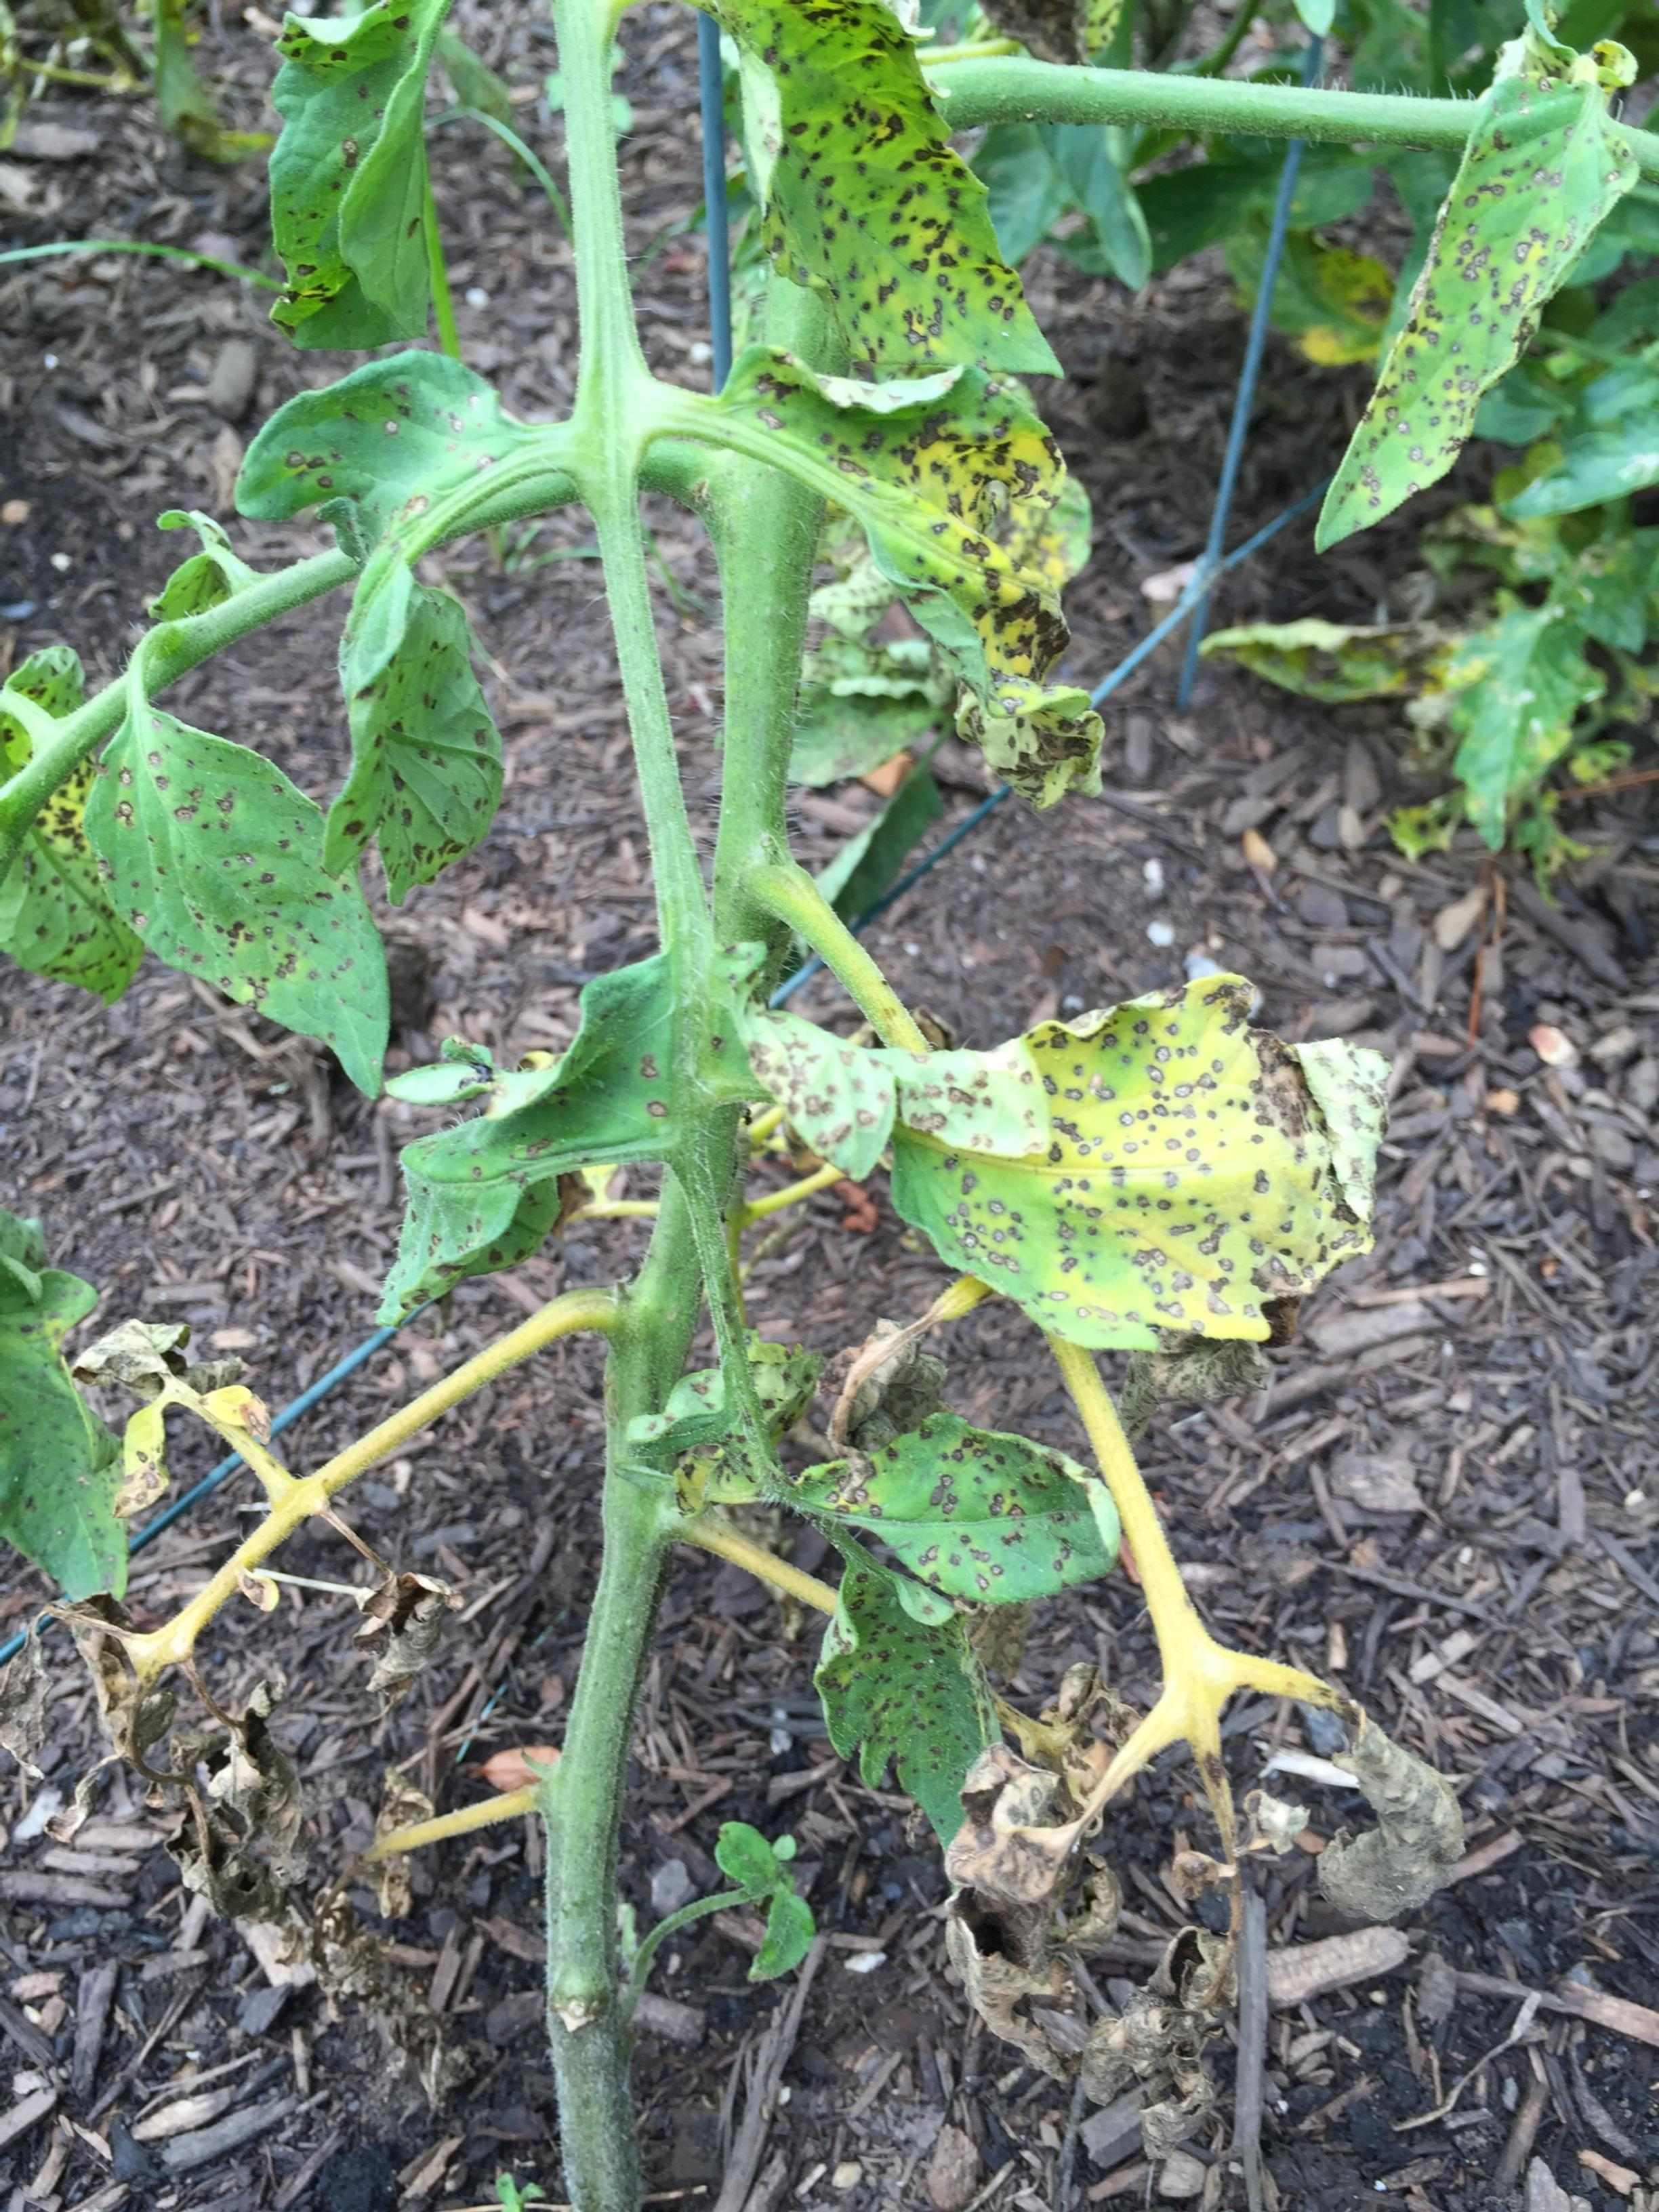Tomato Septoria leaf spot: (671, 977, 1490, 1374), (697, 361, 1119, 817), (638, 16, 1080, 387), (1309, 61, 1640, 549), (56, 702, 422, 1118), (382, 937, 701, 1341), (735, 1555, 1014, 1862), (795, 1406, 1182, 1620), (305, 545, 526, 900)
